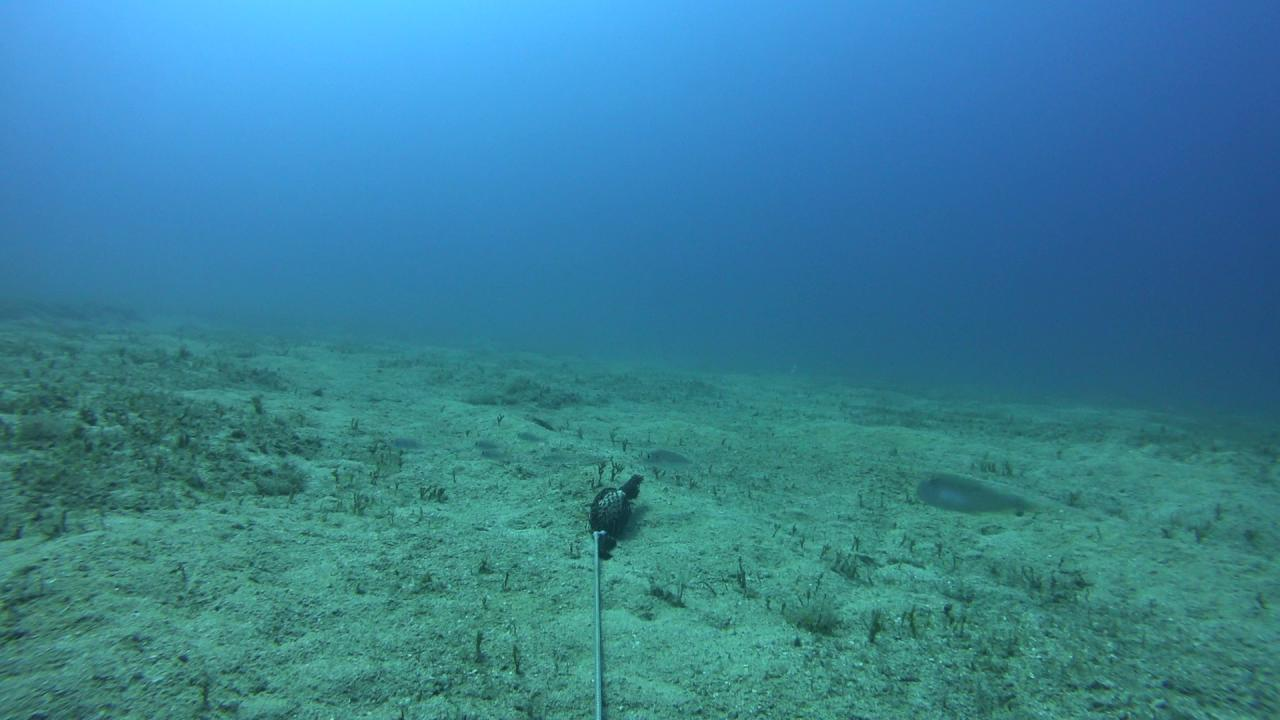pagellus: (640, 448, 701, 471), (385, 435, 433, 454), (468, 432, 508, 449), (514, 431, 554, 447), (474, 452, 522, 462)
raor: (914, 463, 1058, 519)
